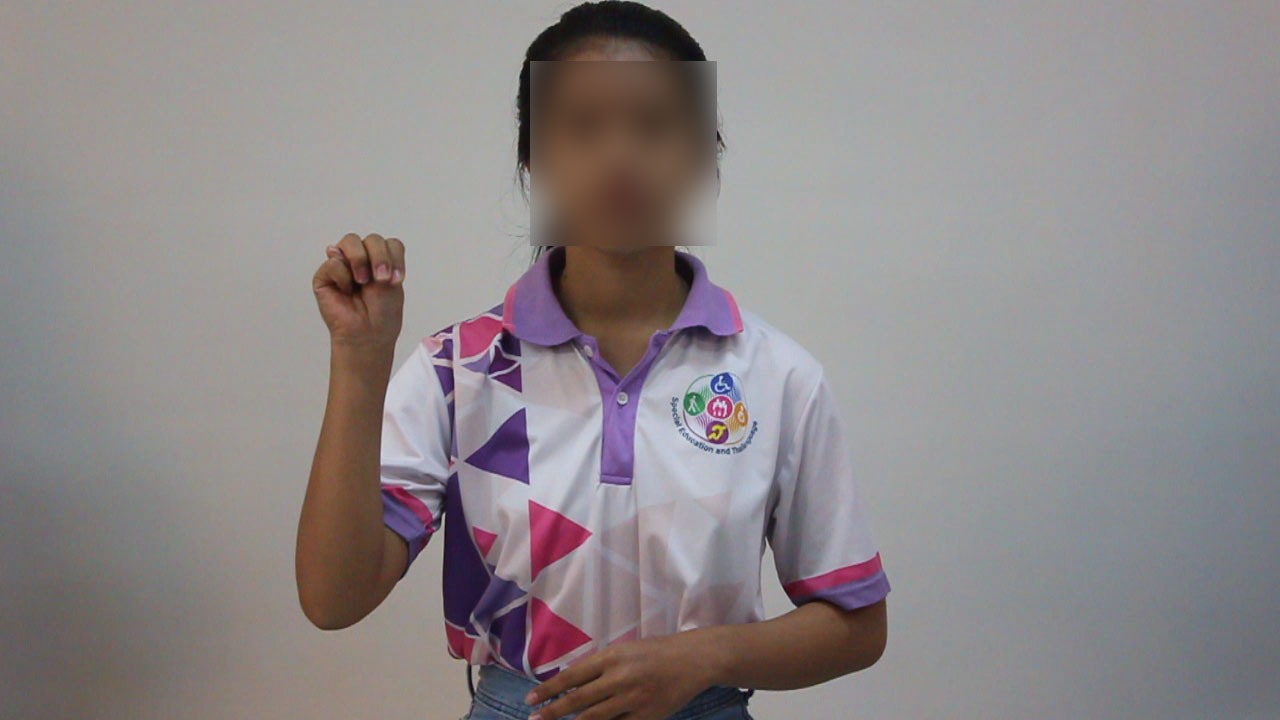mor: (300, 207, 423, 361)
